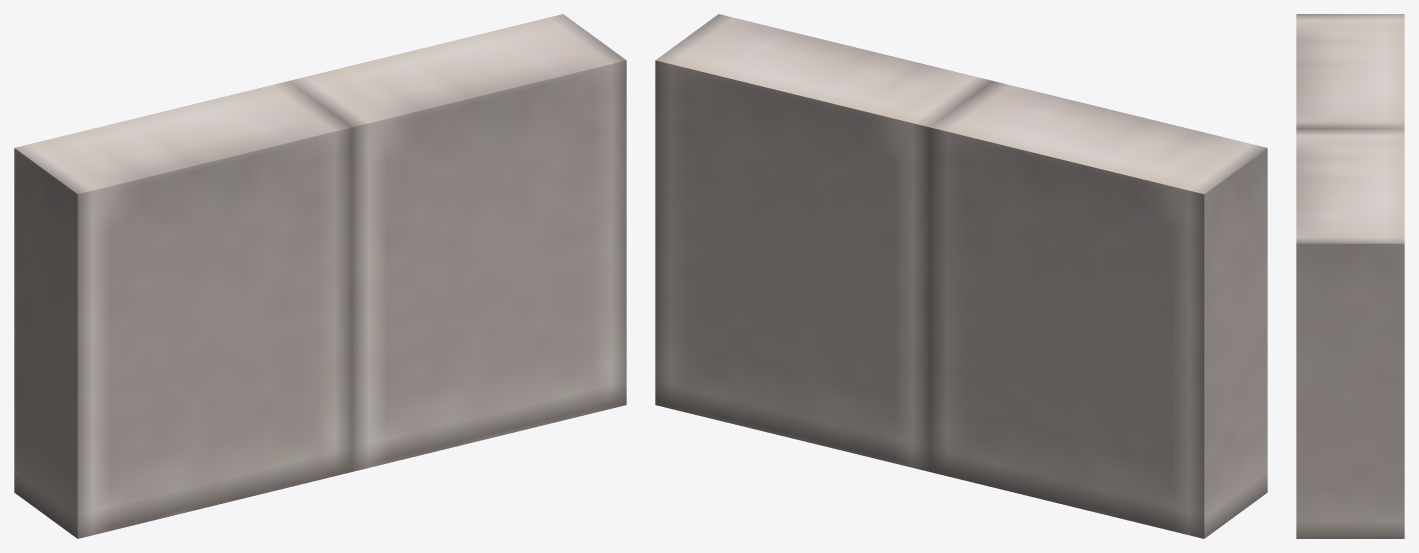
File: Town Wall1.fbx
The picture shows the model from 3 angles, left to right: view 1: azimuth 30°, elevation 25°; view 2: azimuth 150°, elevation 25°; view 3: azimuth 270°, elevation 25°; orthographic projection. The views are drawn at different scales.
Parts seen in each view (by area): view 1: town_wall1; view 2: town_wall1; view 3: town_wall1.
Part boxes in pixels (left/top/right/bottom): town_wall1: left=14, top=14, right=626, bottom=538; town_wall1: left=655, top=14, right=1267, bottom=538; town_wall1: left=1296, top=14, right=1404, bottom=538.
Size of the model in its own units: 1 by 0.6 by 0.2.
